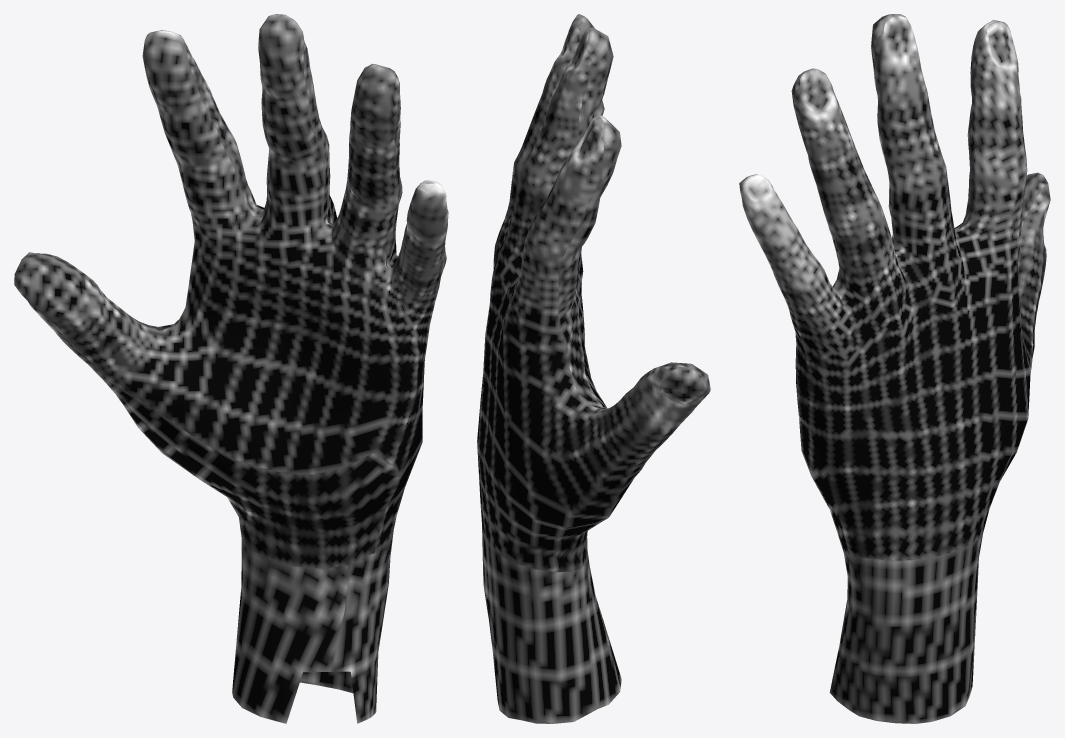
File: hand.obj
3 renders of one model, left to right at view 1: azimuth 30°, elevation 25°; view 2: azimuth 150°, elevation 25°; view 3: azimuth 270°, elevation 25°, orthographic. The views are drawn at different scales.
Size of the model in its own units: 4.6 by 10.06 by 4.23.
